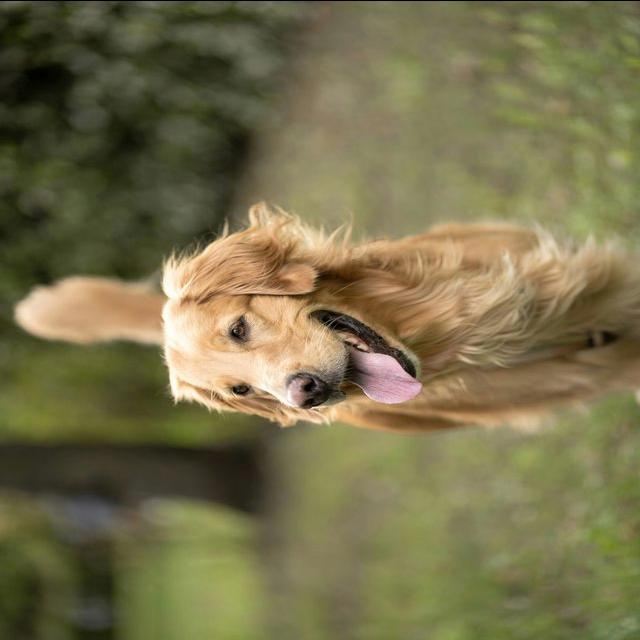retriever: (12, 199, 638, 435)
